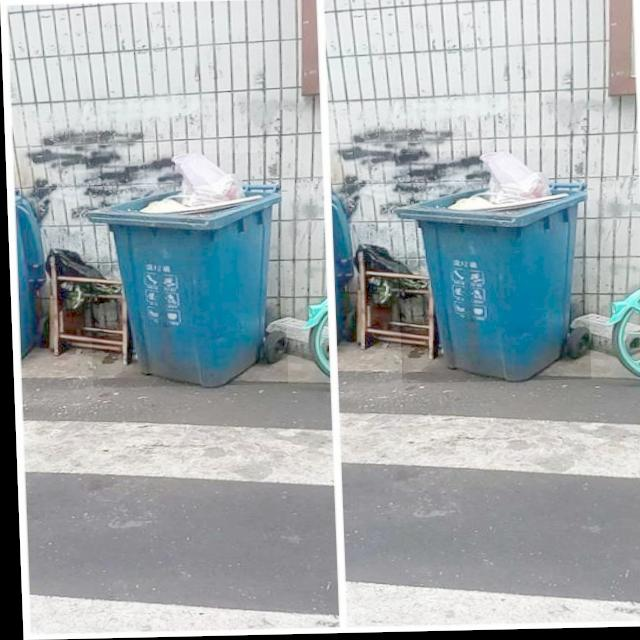overflow: (84, 153, 285, 389), (393, 151, 589, 385)
